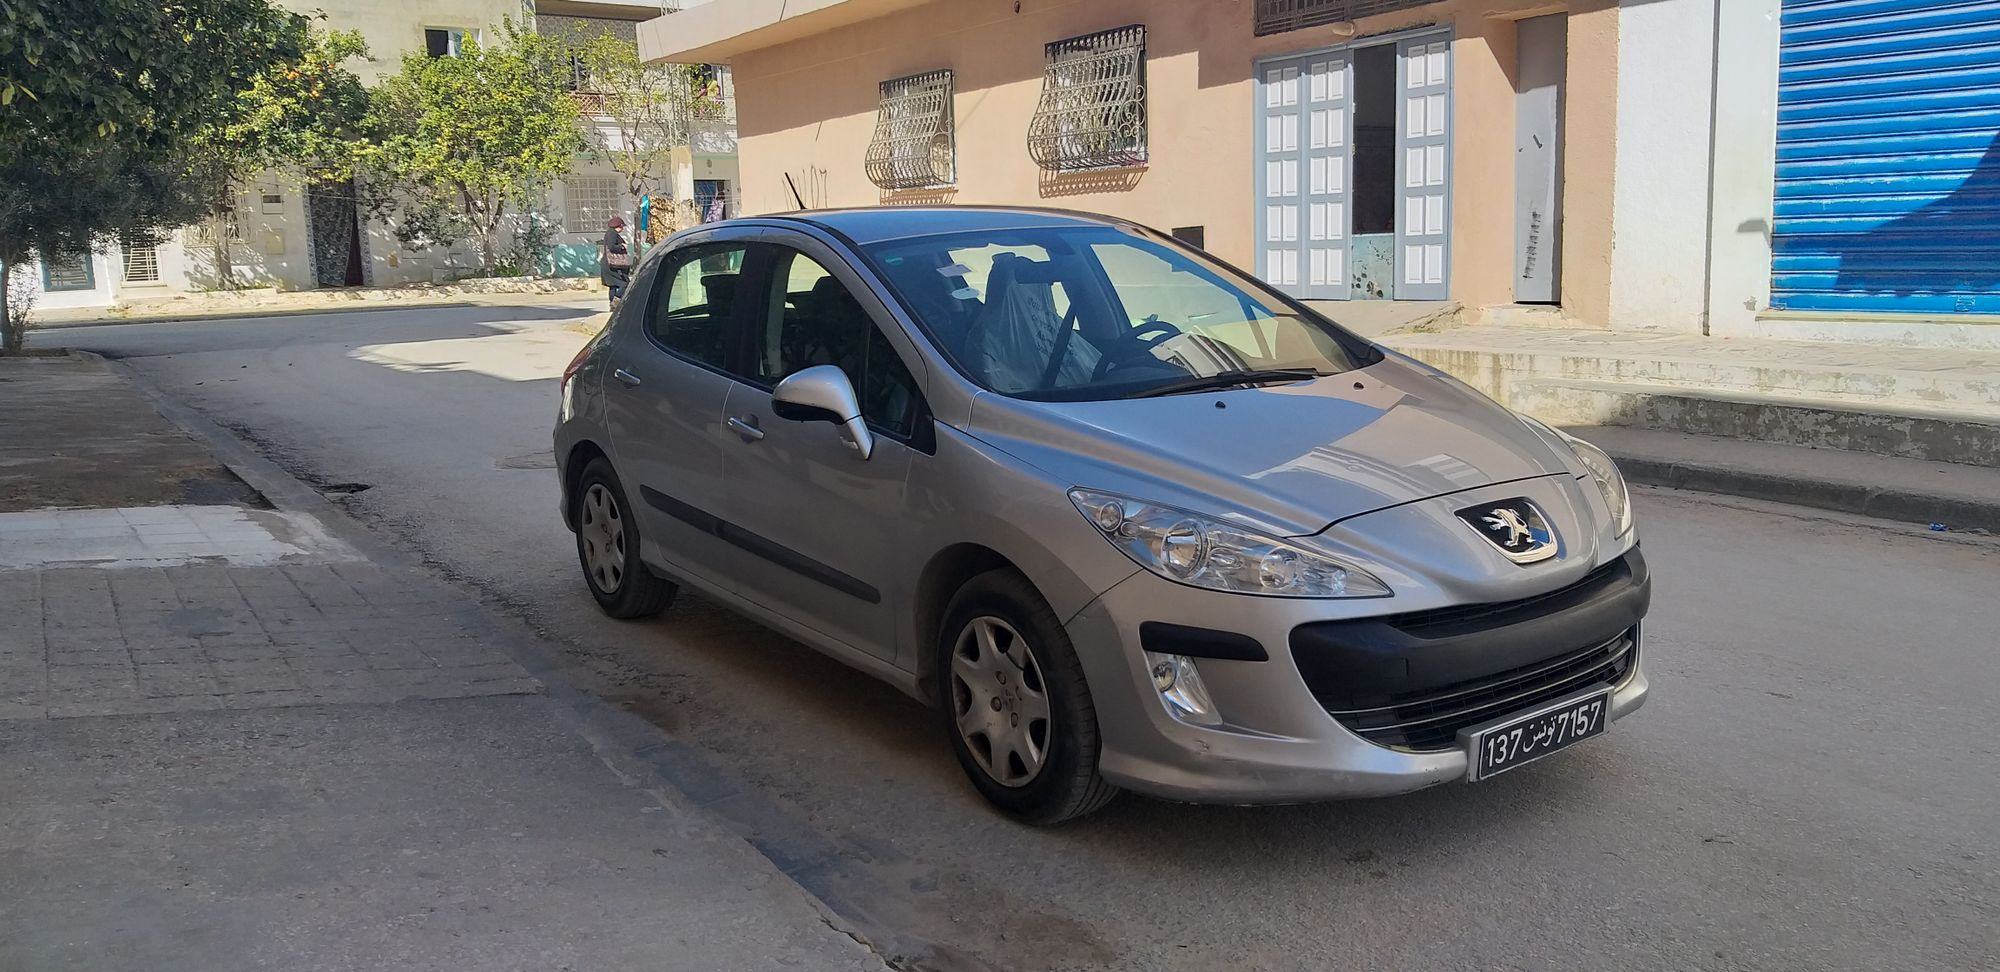LP: (1475, 692, 1611, 779)
